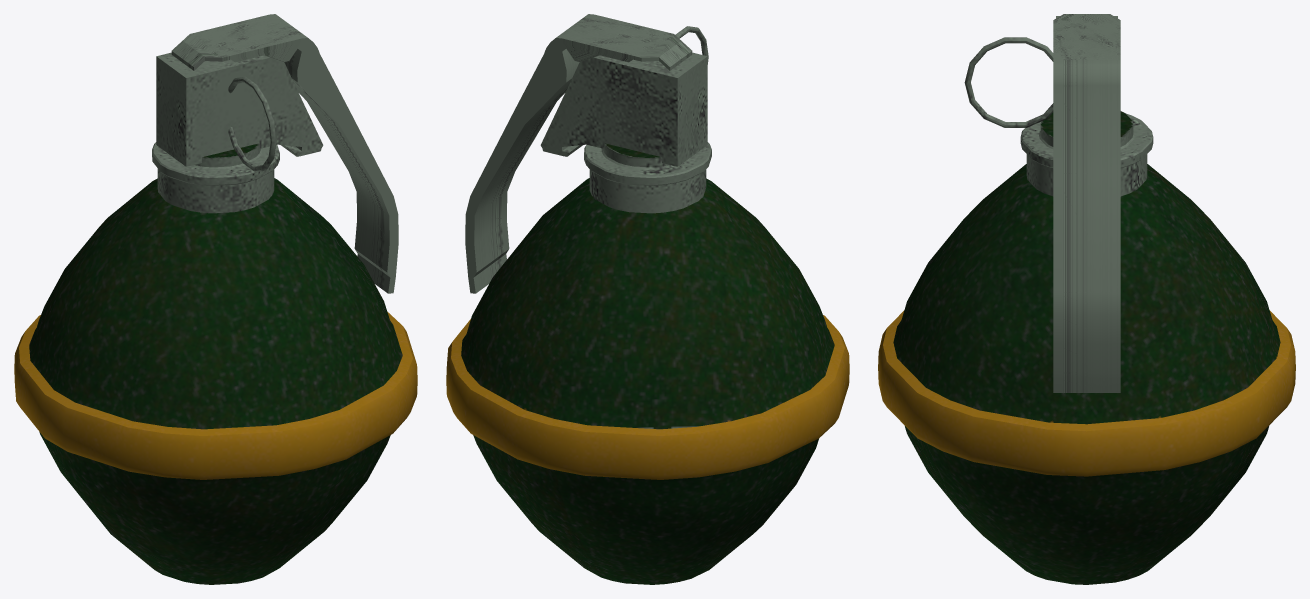
Rendered from grenade.fbx.
3 renders of one model, left to right at view 1: azimuth 30°, elevation 25°; view 2: azimuth 150°, elevation 25°; view 3: azimuth 270°, elevation 25°, orthographic. The views are drawn at different scales.
Parts seen in each view (by area): view 1: Sphere; view 2: Sphere; view 3: Sphere.
Boxes of the visible parts, left/top/right/bottom form: Sphere: left=14, top=14, right=417, bottom=584; Sphere: left=446, top=14, right=849, bottom=584; Sphere: left=878, top=14, right=1295, bottom=584.
Size of the model in its own units: 9.88 by 14.1 by 9.88.
